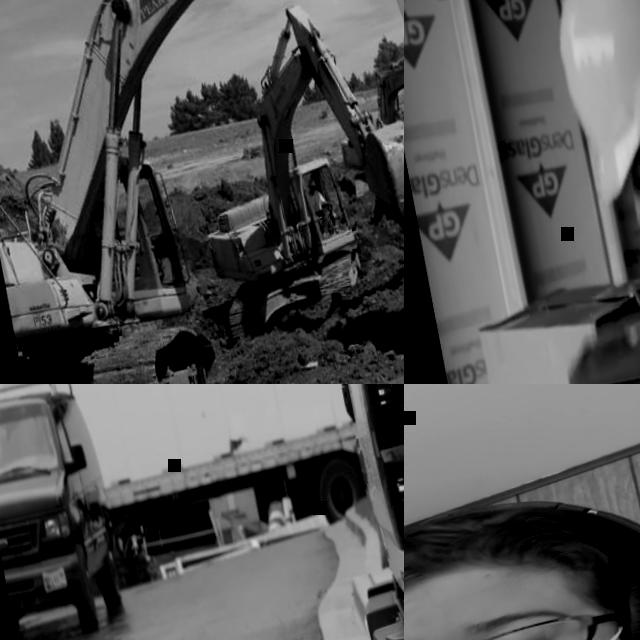helmet: (404, 476, 640, 639), (540, 0, 640, 207), (308, 178, 318, 188)
machinery: (0, 0, 404, 384), (165, 0, 404, 349)
no_mask: (310, 189, 318, 196)
no_vest: (309, 192, 324, 214)
person: (404, 443, 640, 640), (539, 0, 640, 377), (304, 176, 338, 234)
safety_cone: (265, 500, 290, 534)
vehicle: (234, 384, 404, 640), (0, 384, 135, 640)
